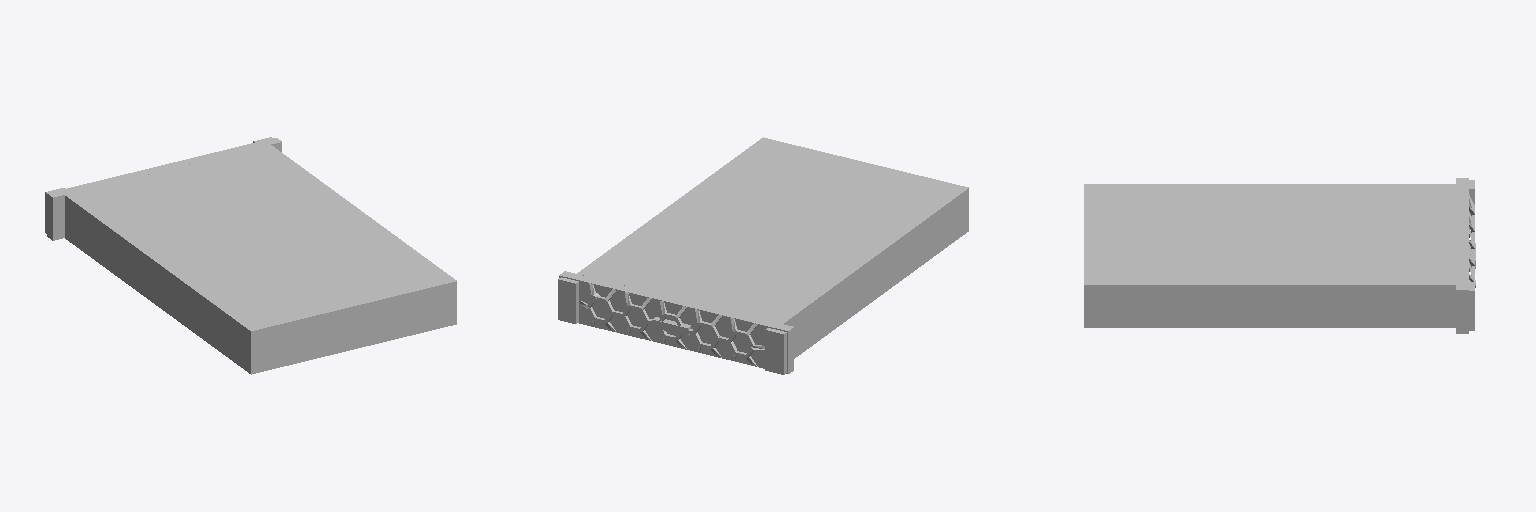
File: r740_hex.obj
The picture shows the model from 3 angles: view 1: azimuth 30°, elevation 25°; view 2: azimuth 150°, elevation 25°; view 3: azimuth 270°, elevation 25°; orthographic projection.
Visible parts, largest first — view 1: Chassis_Cube, Front_Panel_Cube.002; view 2: Chassis_Cube, Front_Panel_Cube.002, Cube.030_Cube.065, Front_Panel.001_Cube.100, Front_Panel.003_Cube.102; view 3: Chassis_Cube, Front_Panel_Cube.002.
Boxes of the visible parts, box(x1,y1,x2,y2) form: Chassis_Cube: box(65, 145, 456, 374); Front_Panel_Cube.002: box(47, 138, 281, 240); Chassis_Cube: box(577, 137, 968, 358); Front_Panel_Cube.002: box(559, 271, 793, 373); Cube.030_Cube.065: box(580, 283, 764, 366); Front_Panel.001_Cube.100: box(765, 328, 786, 374); Front_Panel.003_Cube.102: box(558, 277, 578, 323); Chassis_Cube: box(1084, 184, 1455, 327); Front_Panel_Cube.002: box(1456, 178, 1468, 333).
Size of the model in its own units: 0.6426 by 0.1157 by 0.9534.